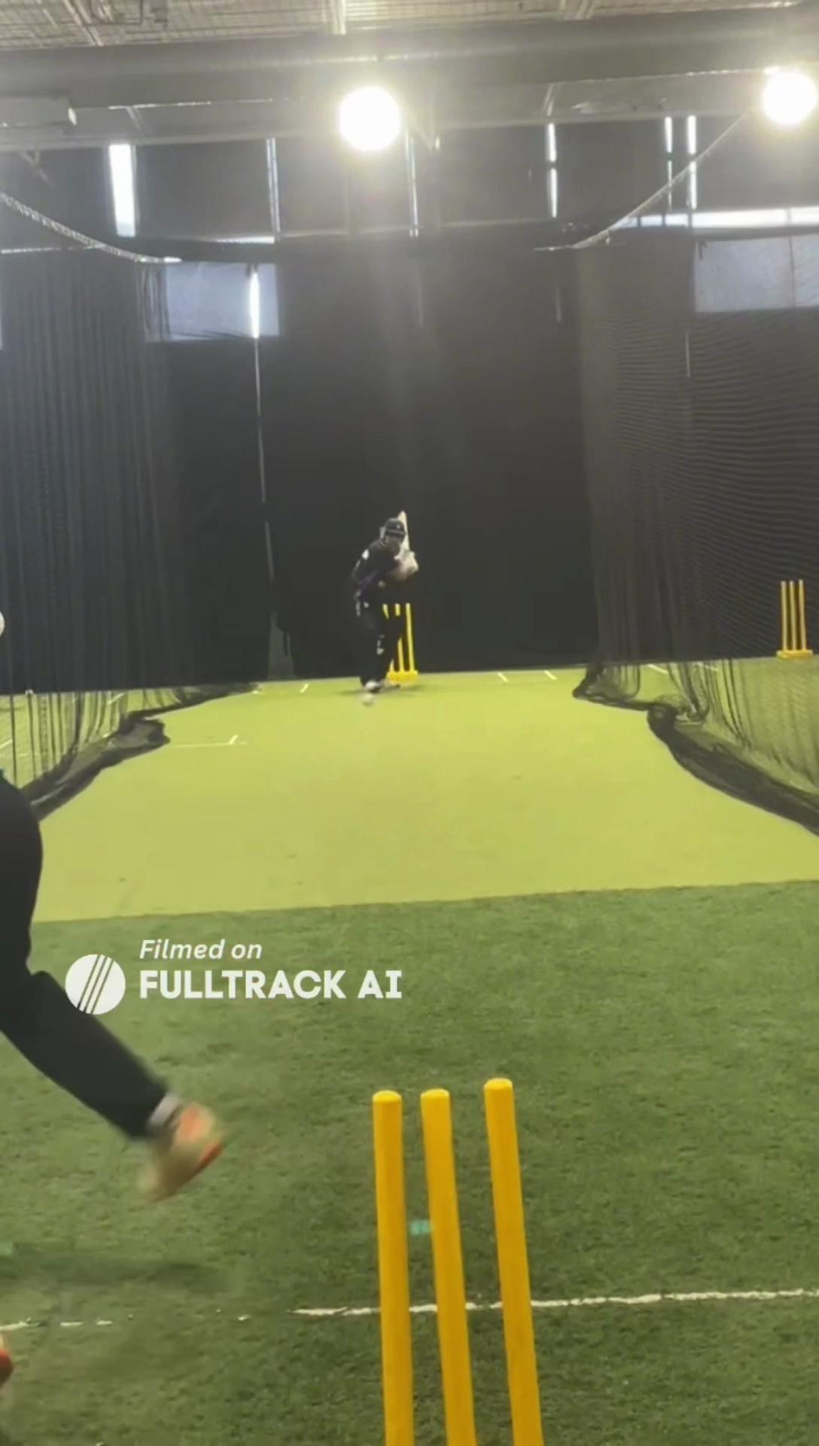ball: (361, 695, 378, 707)
